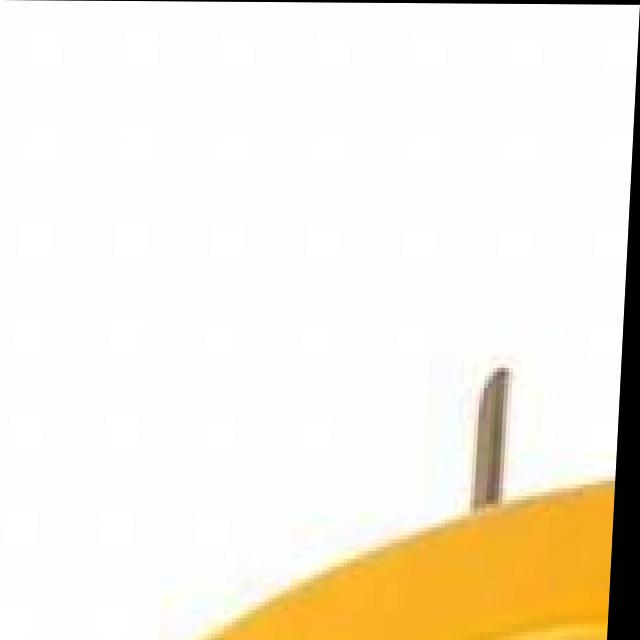battery: (0, 428, 623, 640)
